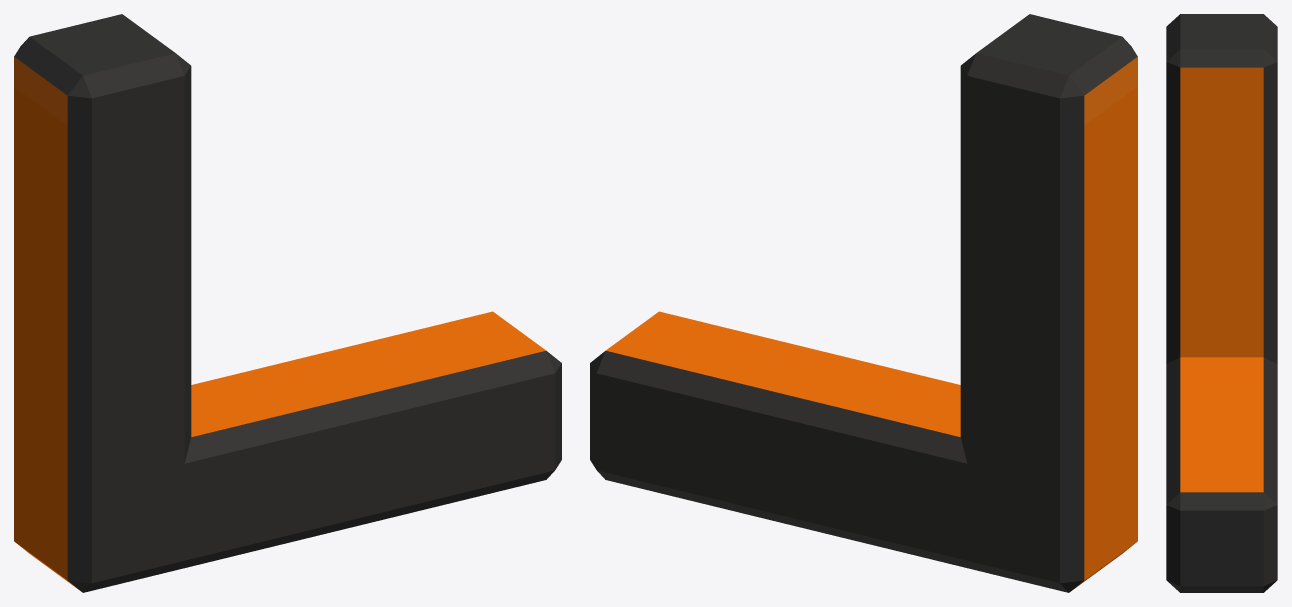
File: PatternA.FBX
3 renders of one model, left to right at view 1: azimuth 30°, elevation 25°; view 2: azimuth 150°, elevation 25°; view 3: azimuth 270°, elevation 25°, orthographic. The views are drawn at different scales.
Visible parts, largest first — view 1: PatternA; view 2: PatternA; view 3: PatternA.
Boxes of the visible parts, box(x1,y1,x2,y2) form: PatternA: box(14, 14, 561, 592); PatternA: box(590, 14, 1137, 592); PatternA: box(1166, 14, 1277, 592).
Bounding box in the file's own units: 80 × 20 × 80.
Materials: 1 (1 with a texture image).
